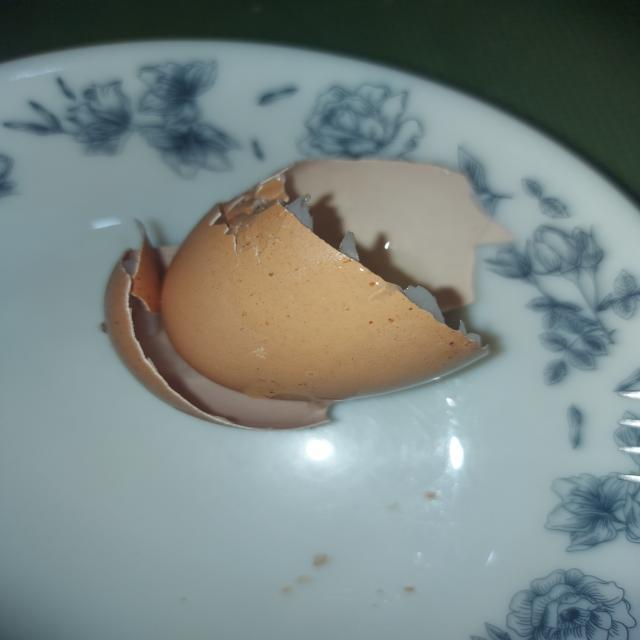egg shell: (89, 144, 511, 442)
